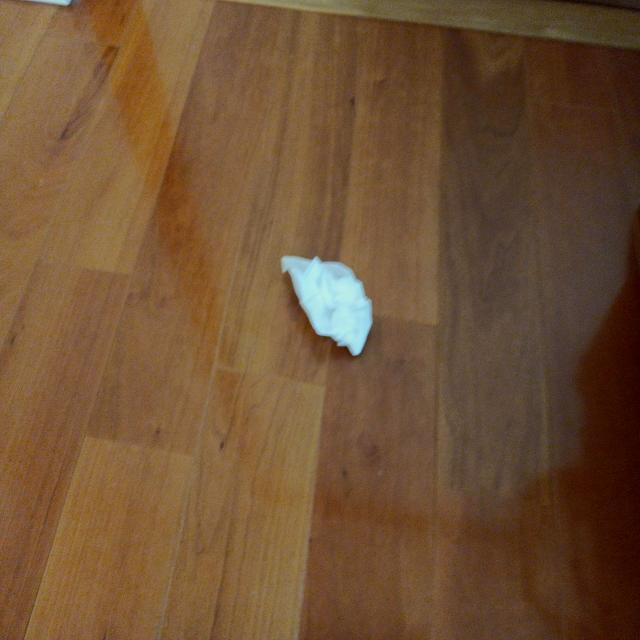Paper: (274, 252, 380, 346)
